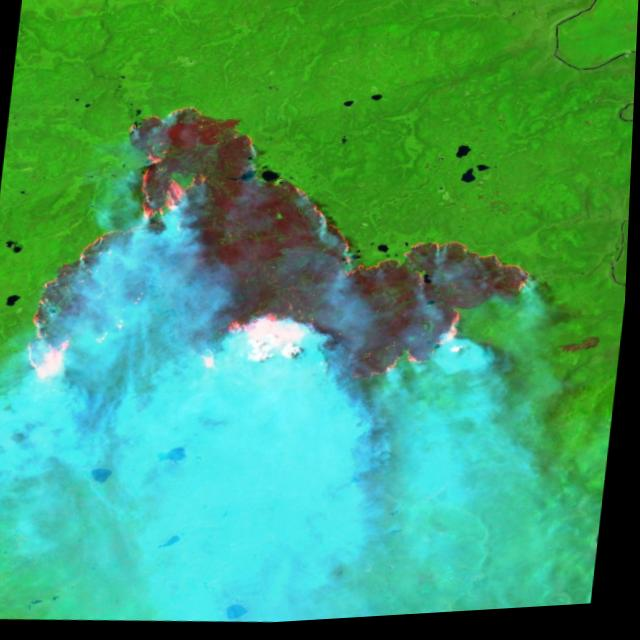fire: (11, 74, 564, 478)
